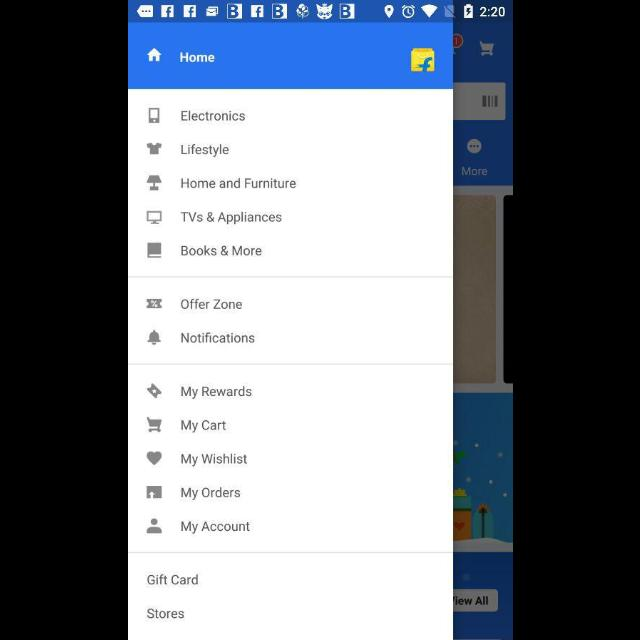icon: (410, 48, 434, 72), (146, 518, 162, 534), (146, 485, 162, 501), (146, 417, 162, 433), (146, 243, 162, 259), (146, 452, 162, 466), (146, 384, 162, 398), (146, 48, 162, 62), (147, 330, 161, 344), (146, 300, 162, 308)
image: (146, 176, 162, 190), (146, 212, 162, 224), (146, 143, 162, 155), (148, 108, 160, 124)
panel: (128, 24, 452, 640)
text: (180, 211, 282, 225), (180, 178, 296, 190), (180, 385, 252, 399), (180, 245, 262, 257), (180, 453, 248, 467), (180, 522, 250, 534), (180, 487, 240, 501), (181, 332, 255, 343), (181, 110, 245, 122), (180, 298, 242, 310), (181, 144, 229, 158), (180, 420, 226, 432), (146, 574, 198, 584), (146, 608, 184, 620), (180, 52, 214, 64)
uppertaskbar: (128, 1, 512, 23)
